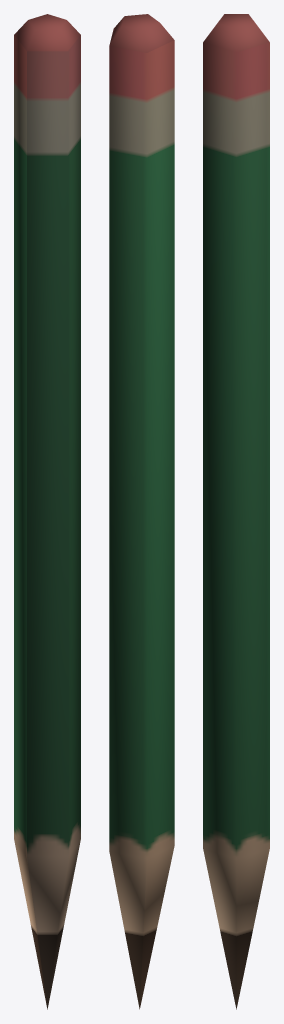
The model's file is Weapon_HuaBi_fbx.FBX.
3 views of the same model, side by side, from view 1: azimuth 90°, elevation 25°; view 2: azimuth 210°, elevation 25°; view 3: azimuth 270°, elevation 25° (orthographic).
Visible parts, largest first — view 1: HuaBi; view 2: HuaBi; view 3: HuaBi.
Part boxes in pixels (left/top/right/bottom): HuaBi: left=14, top=14, right=80, bottom=1009; HuaBi: left=109, top=14, right=174, bottom=1009; HuaBi: left=203, top=14, right=269, bottom=1009.
Bounding box in the file's own units: 0.00822 × 0.1412 × 0.00864.
